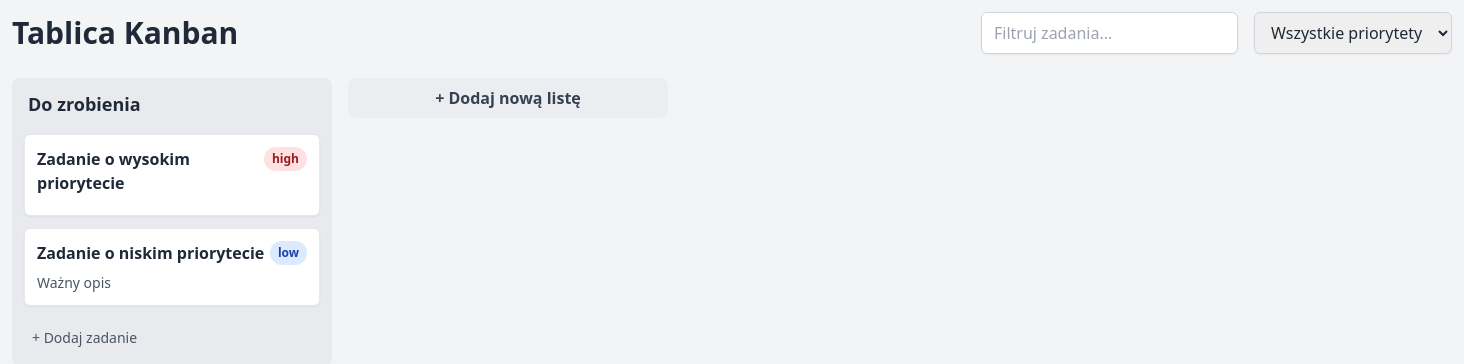
Test: BoardPage › should filter cards by priority
Check: the heading "Zadanie o wysokim priorytecie" is shown, box [37,148,190,194]
Check: the heading "Zadanie o niskim priorytecie" is shown, box [37,241,264,265]
// Wybieramy priorytet "high" z listy
Select "Wysoki" in the dropdown: coordinates (1353, 33) [1254,12,1452,54]
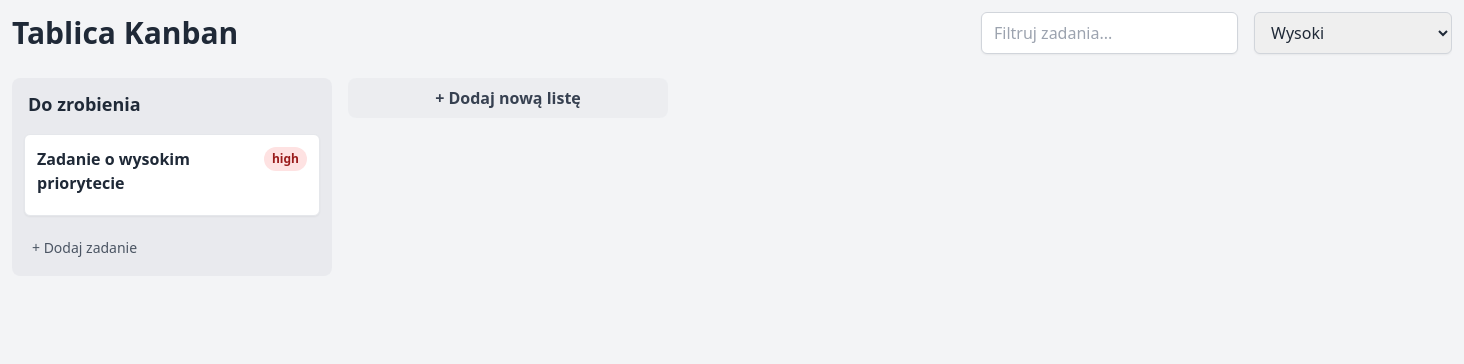
Check: the heading "Zadanie o wysokim priorytecie" is shown, box [37,148,190,194]
Check: the button "Zadanie o niskim priorytecie" is gone
